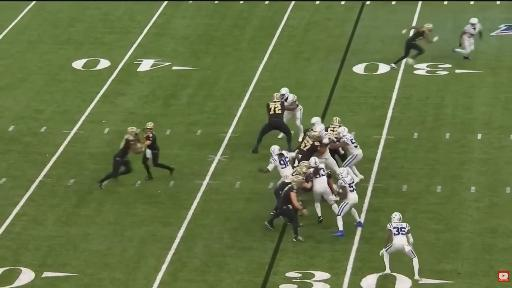Helmet: (307, 130, 323, 141), (294, 166, 308, 177), (290, 175, 304, 186), (279, 87, 289, 99), (391, 212, 402, 222), (309, 157, 319, 167), (314, 124, 325, 133), (338, 168, 347, 178), (338, 127, 348, 136), (271, 146, 281, 155), (299, 161, 310, 169), (128, 127, 137, 135), (311, 117, 321, 124), (332, 117, 340, 125), (273, 93, 281, 101), (424, 24, 433, 31), (146, 122, 153, 129), (470, 18, 478, 24)
Jersey: (268, 151, 293, 180), (296, 136, 320, 163), (338, 176, 358, 203), (387, 223, 409, 245), (309, 164, 331, 186), (116, 135, 136, 158), (339, 134, 361, 154), (279, 185, 296, 207), (267, 102, 285, 121), (463, 24, 481, 39), (145, 132, 159, 151), (275, 181, 291, 195), (407, 30, 425, 42), (284, 94, 299, 108), (325, 125, 339, 138)
Player: (380, 212, 421, 280), (98, 127, 143, 188), (266, 176, 306, 241), (252, 94, 293, 153), (390, 24, 438, 68), (335, 168, 363, 236), (310, 157, 338, 223), (142, 123, 174, 179), (339, 127, 363, 182), (313, 123, 341, 170), (259, 146, 294, 183), (274, 166, 311, 199), (280, 88, 303, 141), (454, 18, 482, 59), (295, 131, 327, 166), (330, 148, 347, 163)
